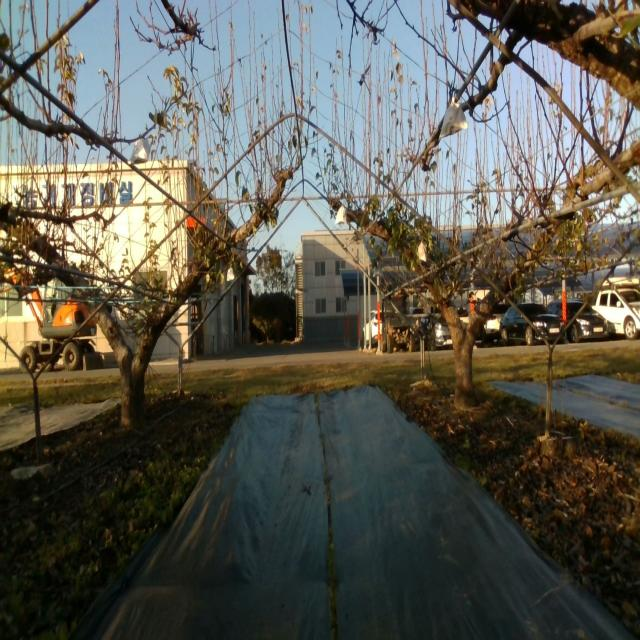pearbags: (439, 94, 469, 140), (127, 138, 150, 166), (418, 238, 428, 263), (335, 206, 347, 226)
